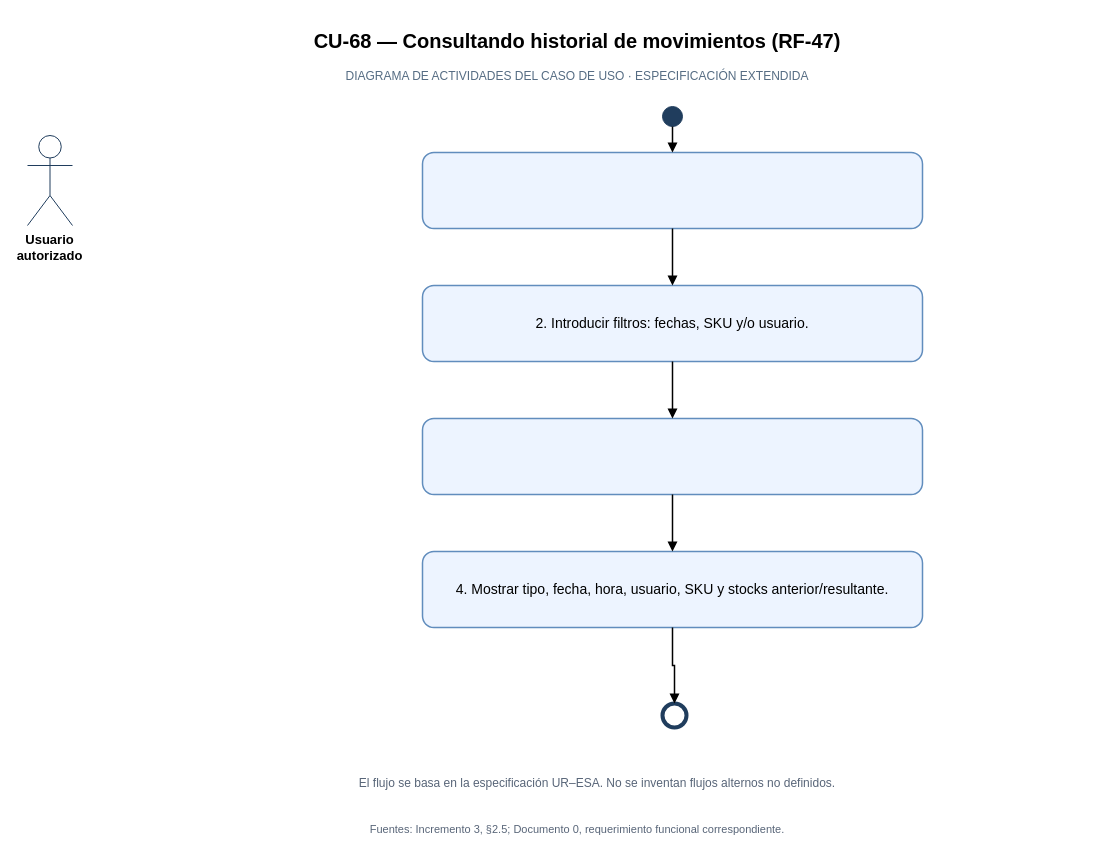
Some shapes in this 1115 by 858 pixel diagram are drawn without their labels. The shapes that lost their labels are listed below. From the top down, each one's centre as x and y in pixels, then its label:
the point at 672,190: 1. Abrir el historial de movimientos de inventario.
the point at 672,456: 3. Consultar los movimientos coincidentes.
